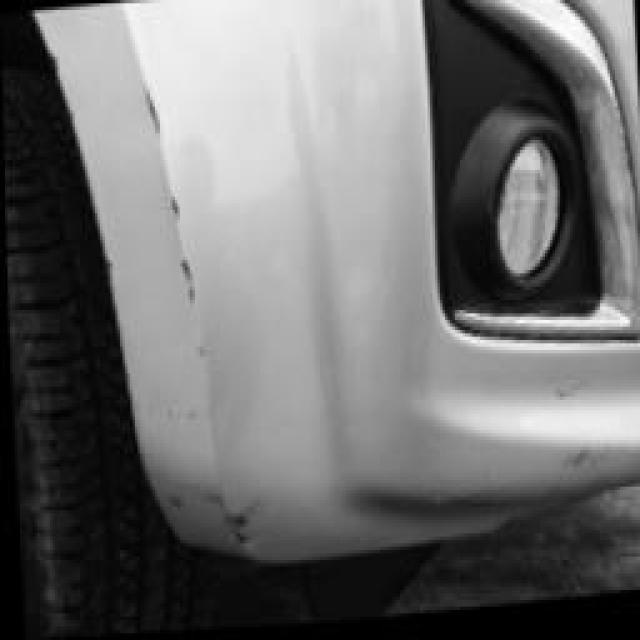Bumper: (42, 0, 351, 596)
